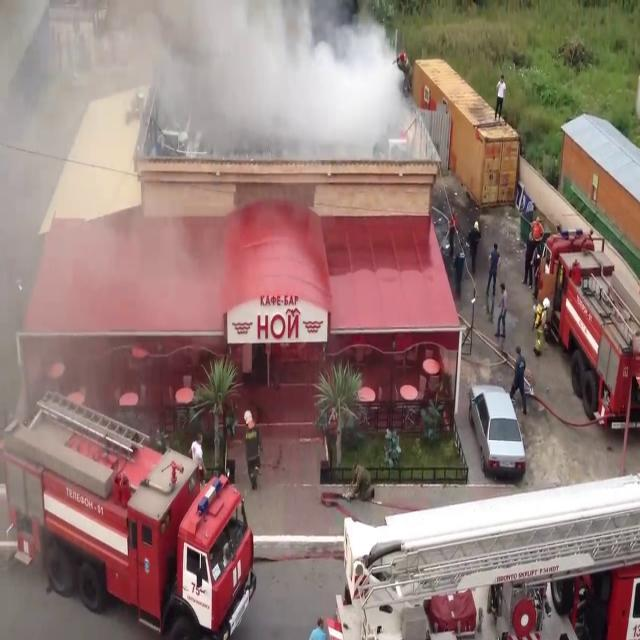Smoke: (1, 0, 419, 155)
